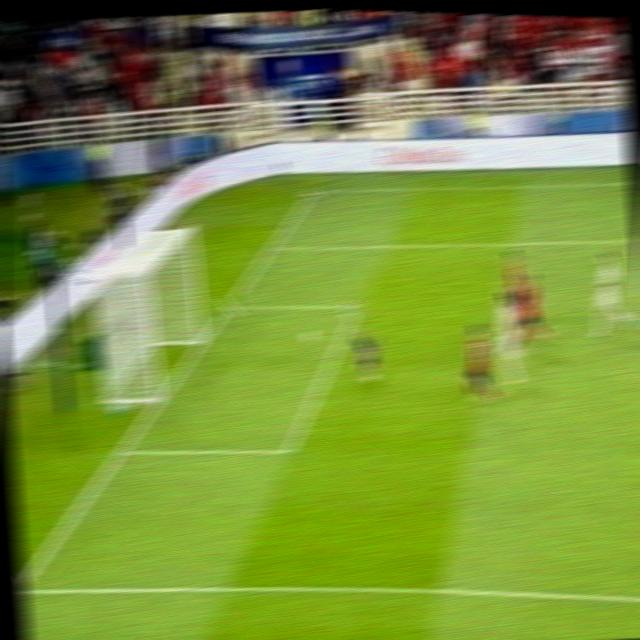bigarea_bottom_outter: (18, 569, 31, 603)
bigarea_top_inner: (624, 228, 640, 252)
bigarea_top_outter: (259, 234, 284, 255)
bottom_arc_area_intersection: (634, 416, 640, 446)
corner: (298, 181, 325, 198)
smallarea_bottom_inner: (271, 428, 303, 467)
smallarea_bottom_outter: (106, 433, 137, 465)
smallarea_top_inner: (338, 294, 365, 320)
smallarea_top_outter: (215, 292, 240, 316)
top_arc_area_intersection: (626, 300, 640, 326)
